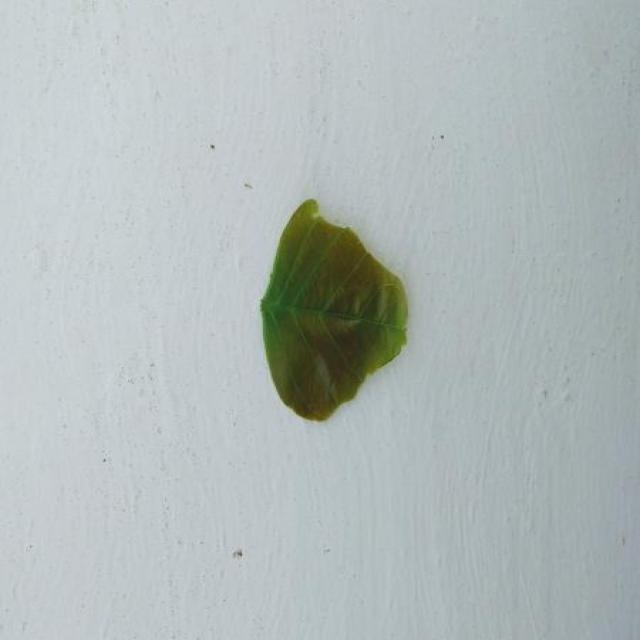honge: (262, 200, 408, 419)
